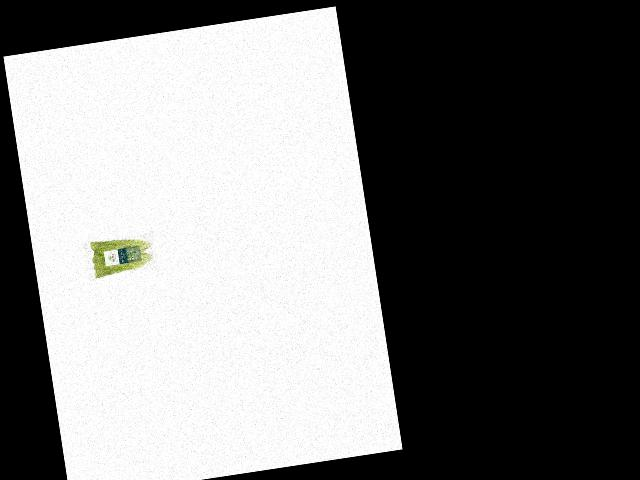lettuce: (86, 228, 155, 279)
